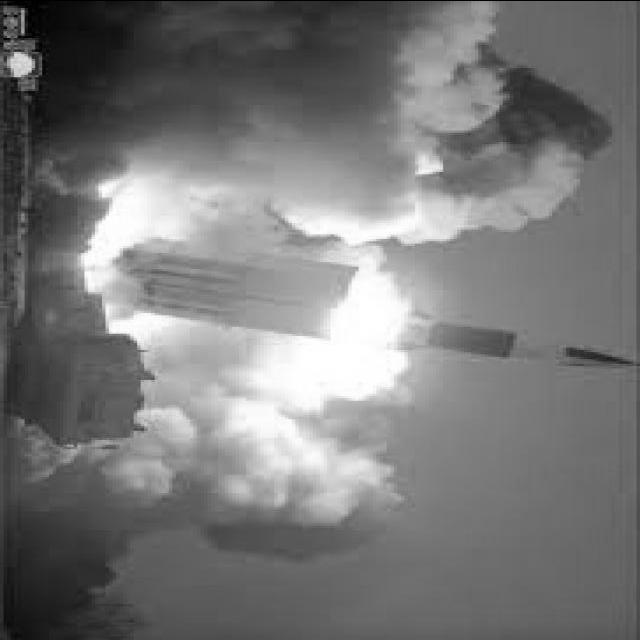missile: (396, 317, 640, 373)
